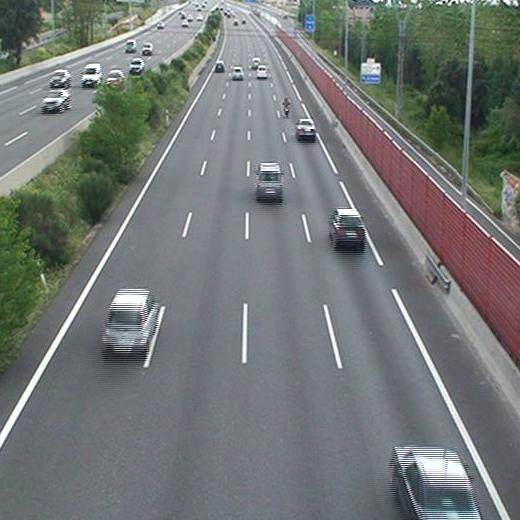car: (393, 446, 481, 520), (103, 291, 158, 352), (330, 210, 365, 244), (256, 164, 283, 198), (297, 119, 316, 137), (255, 66, 266, 79), (231, 68, 243, 79), (214, 61, 225, 71)
motorcycle: (282, 97, 290, 116)
